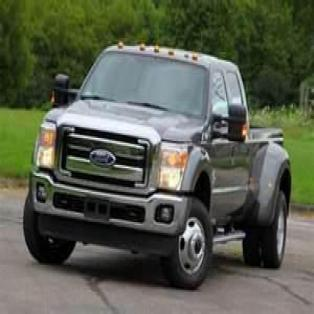Auto: (22, 40, 293, 287)
